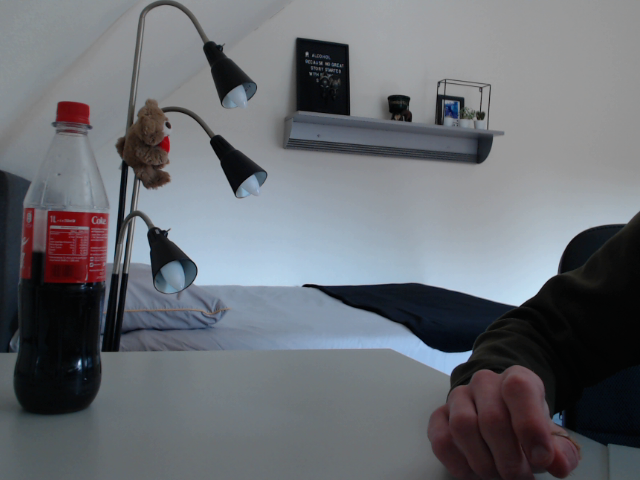bottle: (13, 99, 109, 415)
